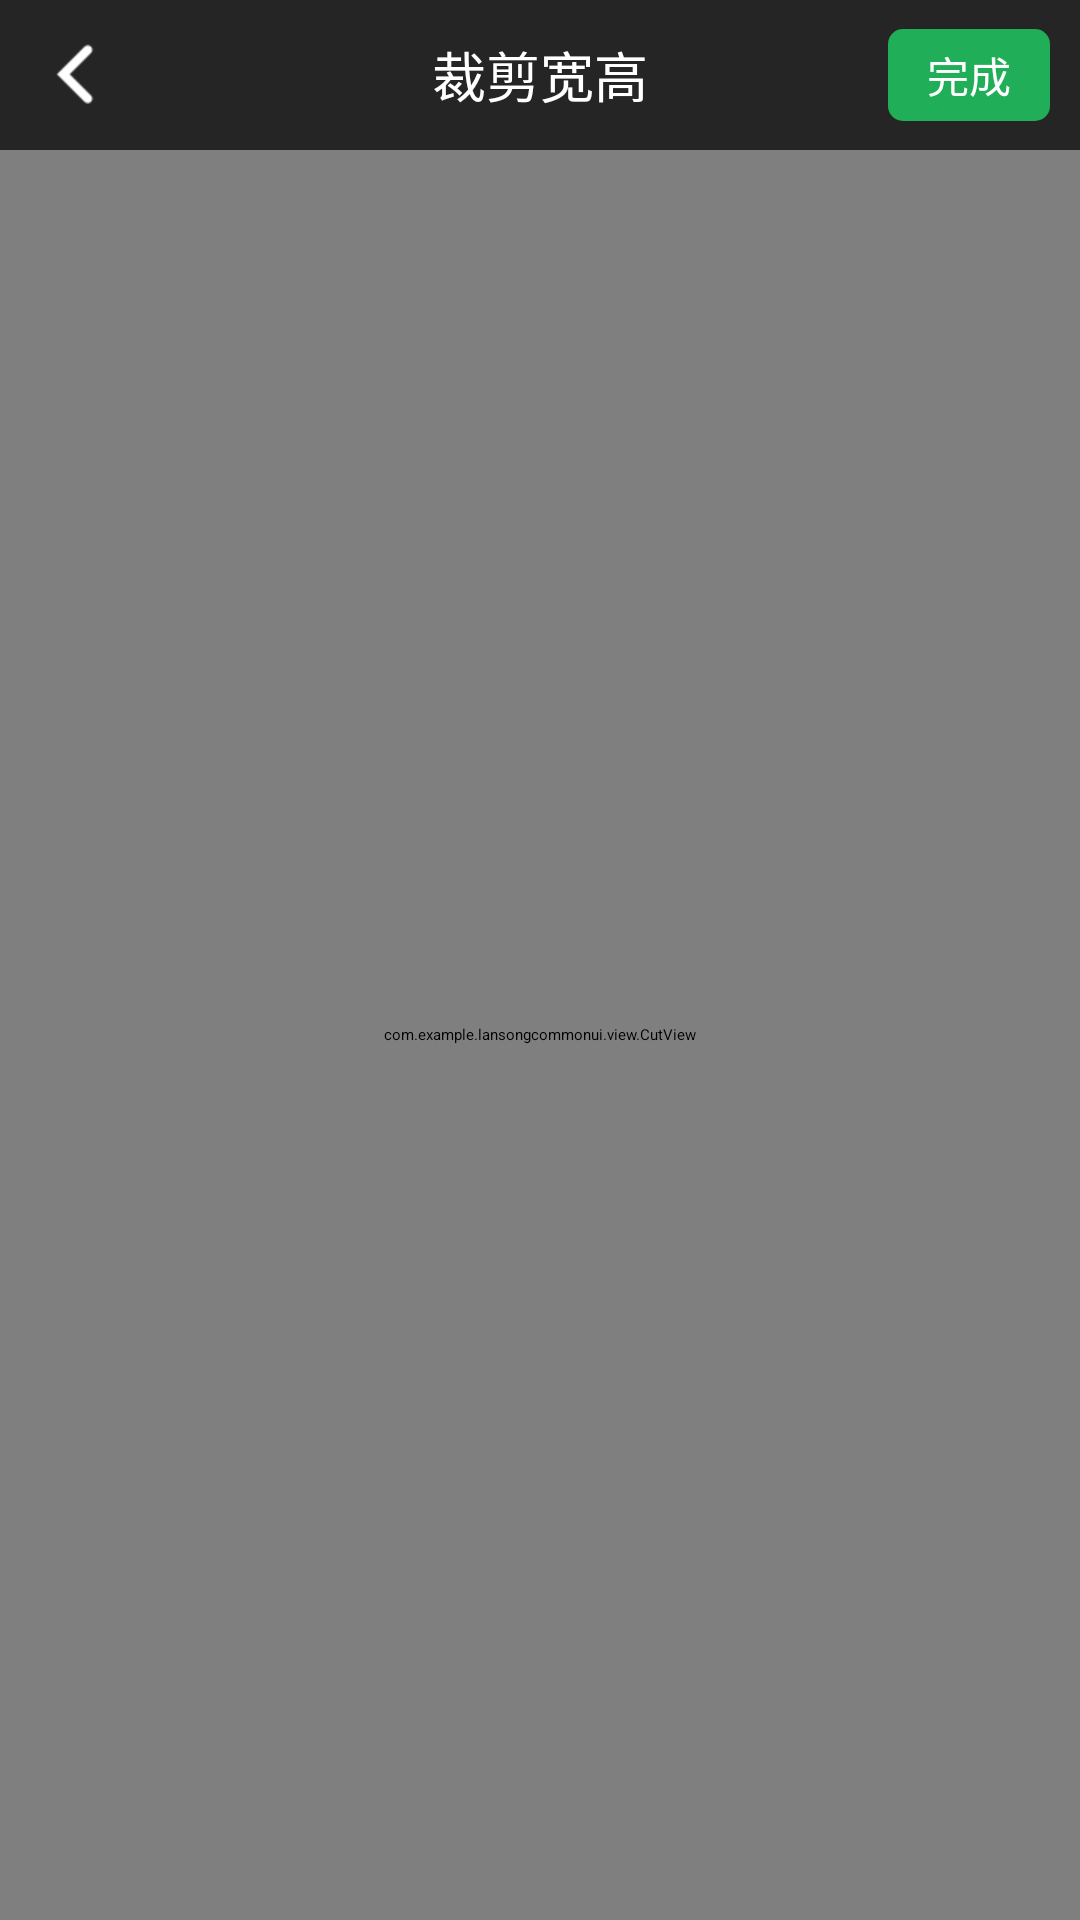

Where icons sit on this 1080px×1920px app screen, as {"x1": x1, "y1": y1, "x2": x2, "y2": y2}:
back: {"x1": 57, "y1": 44, "x2": 93, "y2": 104}
